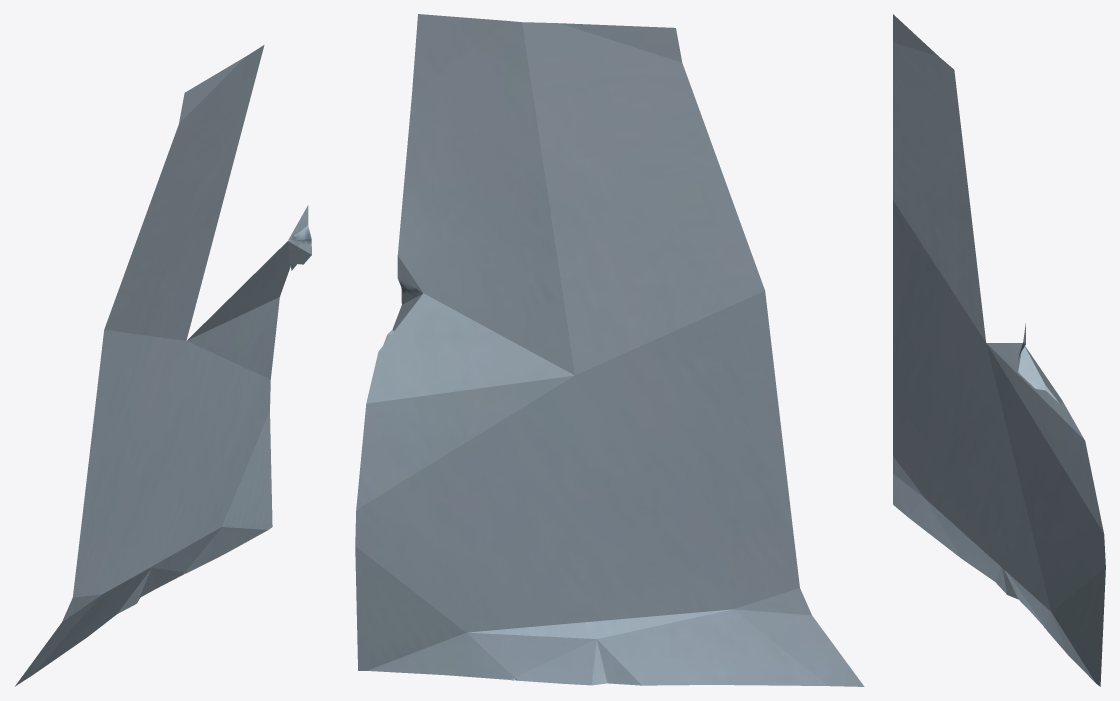
3 renders of one model, left to right at view 1: azimuth 30°, elevation 25°; view 2: azimuth 150°, elevation 25°; view 3: azimuth 270°, elevation 25°, orthographic. The views are drawn at different scales.
Size of the model in its own units: 1.13 by 1.67 by 0.5595.
Materials: 2 (2 with a texture image).
